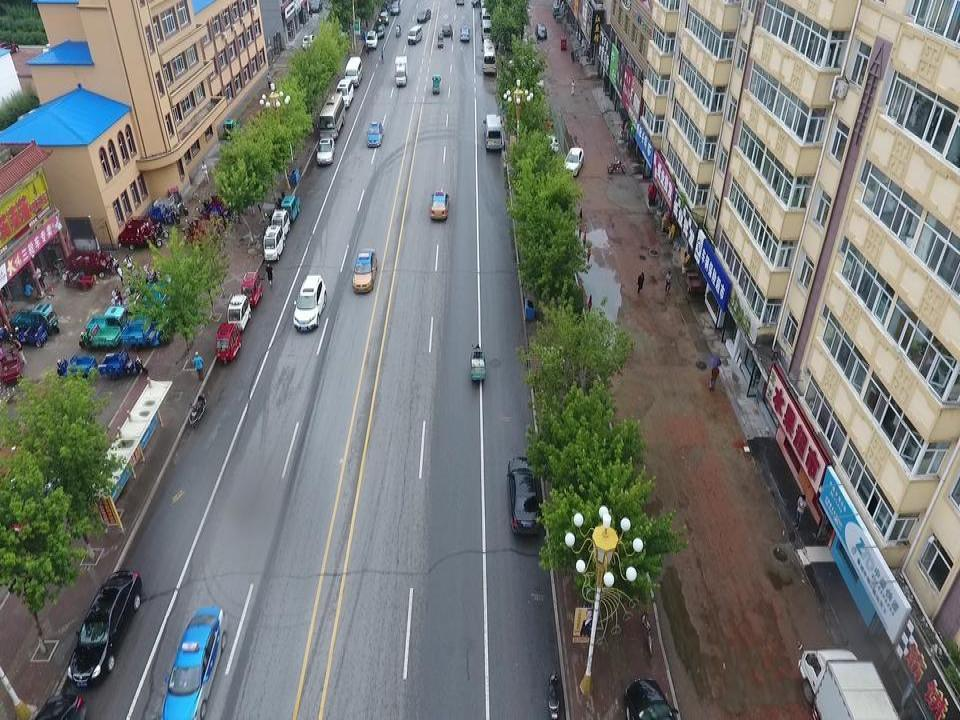bus: (317, 91, 346, 141)
car: (66, 568, 143, 689), (157, 604, 230, 719), (505, 455, 543, 537), (622, 676, 680, 720), (293, 272, 328, 333), (352, 246, 378, 294), (529, 131, 559, 157), (271, 206, 291, 243), (562, 146, 585, 178), (429, 190, 450, 221), (334, 77, 355, 108), (315, 136, 335, 165), (365, 119, 384, 148), (301, 32, 319, 49), (0, 40, 19, 55), (459, 24, 471, 43), (416, 8, 431, 23), (535, 23, 548, 40), (366, 31, 378, 48), (389, 0, 401, 15), (378, 8, 389, 24), (374, 23, 386, 37), (441, 23, 452, 37)
truck: (797, 645, 902, 720), (394, 55, 409, 88)
van: (483, 112, 504, 151), (344, 55, 363, 88), (480, 40, 498, 73), (407, 24, 423, 45), (480, 18, 494, 42), (480, 6, 492, 26)
